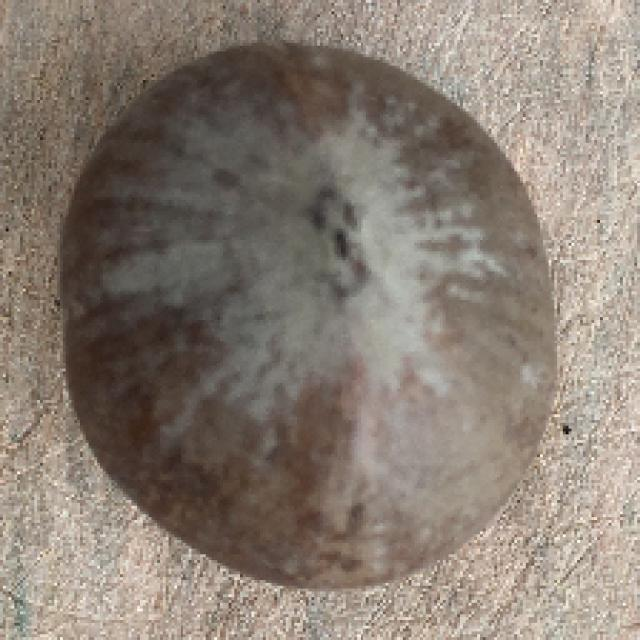DamagedHazelnut: (65, 47, 560, 591)
